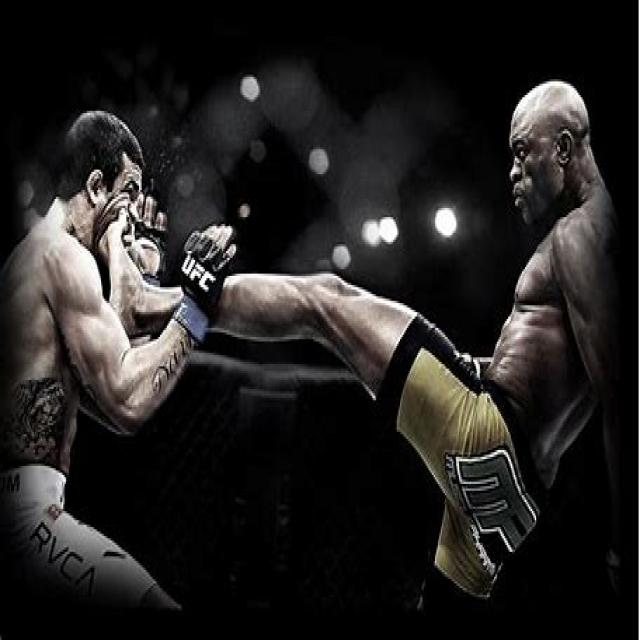fight: (16, 32, 634, 544)
